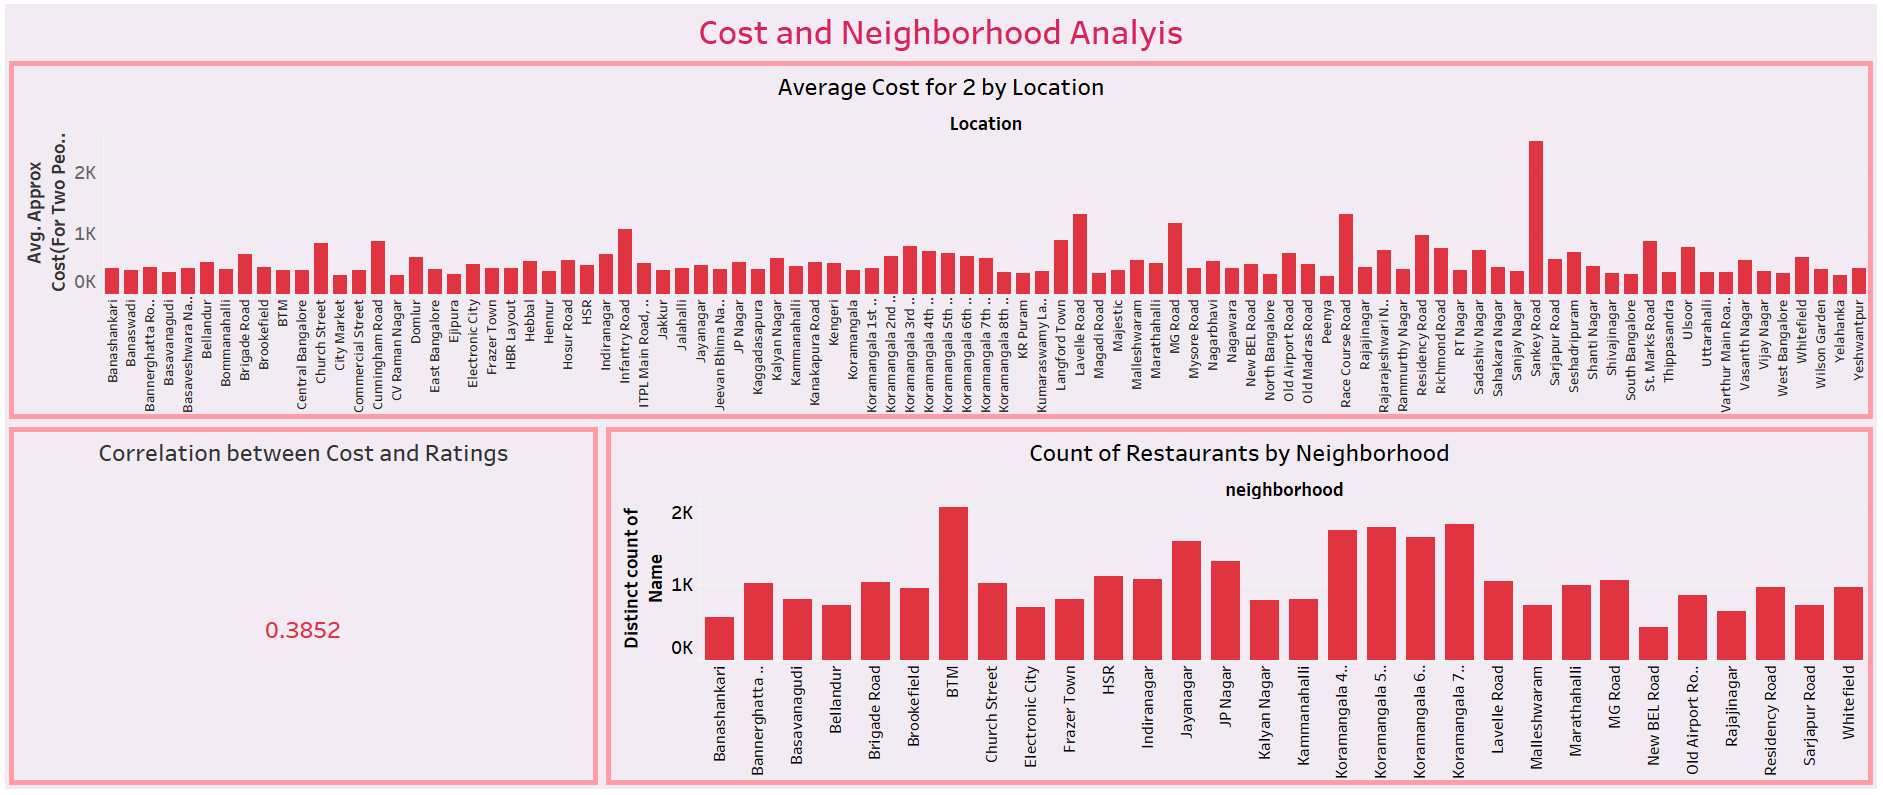

The dashboard page shown, as its layout file describes it:
{"tool":"tableau","page":{"name":"Cost & Neighborhood Analysis","canvas":[1000,1000],"units":"permille","ordinal":1},"visuals":[{"type":"title","box":[4.2,10,991.5,66.2]},{"type":"worksheet","title":"Sheet 7","mark":"Automatic","rows":["approx_cost(for two people)"],"cols":["location"],"box":[4.2,76.2,991.5,456.9]},{"type":"worksheet","title":"Sheet 8","mark":"Automatic","box":[4.2,533.1,316,456.9]},{"type":"worksheet","title":"Sheet 9","mark":"Automatic","rows":["name"],"cols":["listed_in(city)"],"box":[320.2,533.1,675.5,456.9]}]}

Visuals, with their boxes on the dashboard's canvas, which has no fixed pixel size, in thousandths of its width and height (x1, y1, x2, y2). These are canvas units, not pixel positions in the 1883x795 screenshot, which may show the page scaled, cropped or inside an application window:
title: bbox=(4, 10, 996, 76)
"Sheet 7" worksheet: bbox=(4, 76, 996, 533)
"Sheet 8" worksheet: bbox=(4, 533, 320, 990)
"Sheet 9" worksheet: bbox=(320, 533, 996, 990)
